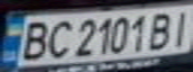0: (112, 12, 133, 54)
1: (127, 11, 151, 52), (93, 15, 115, 55)
2: (75, 15, 96, 57)
B: (15, 18, 54, 62), (145, 8, 178, 51)
C: (42, 17, 75, 60)
I: (166, 6, 193, 47)
